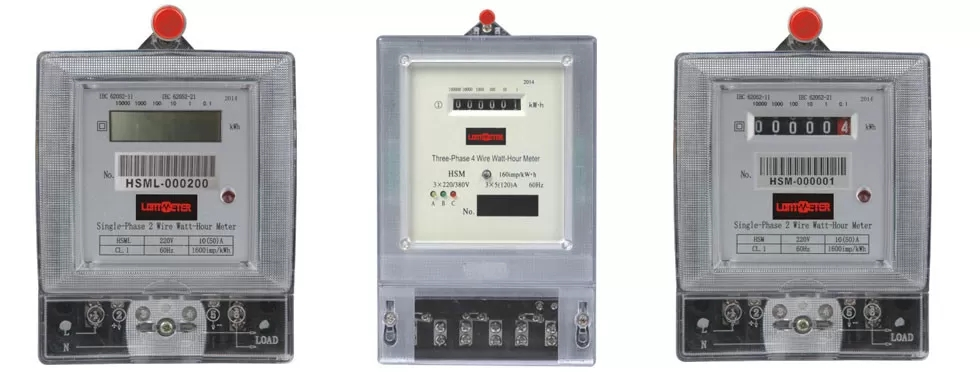counter: (29, 32, 302, 364), (666, 35, 937, 368), (370, 23, 603, 370)
counter_screen: (106, 106, 225, 143), (750, 112, 854, 137), (446, 90, 528, 116)
